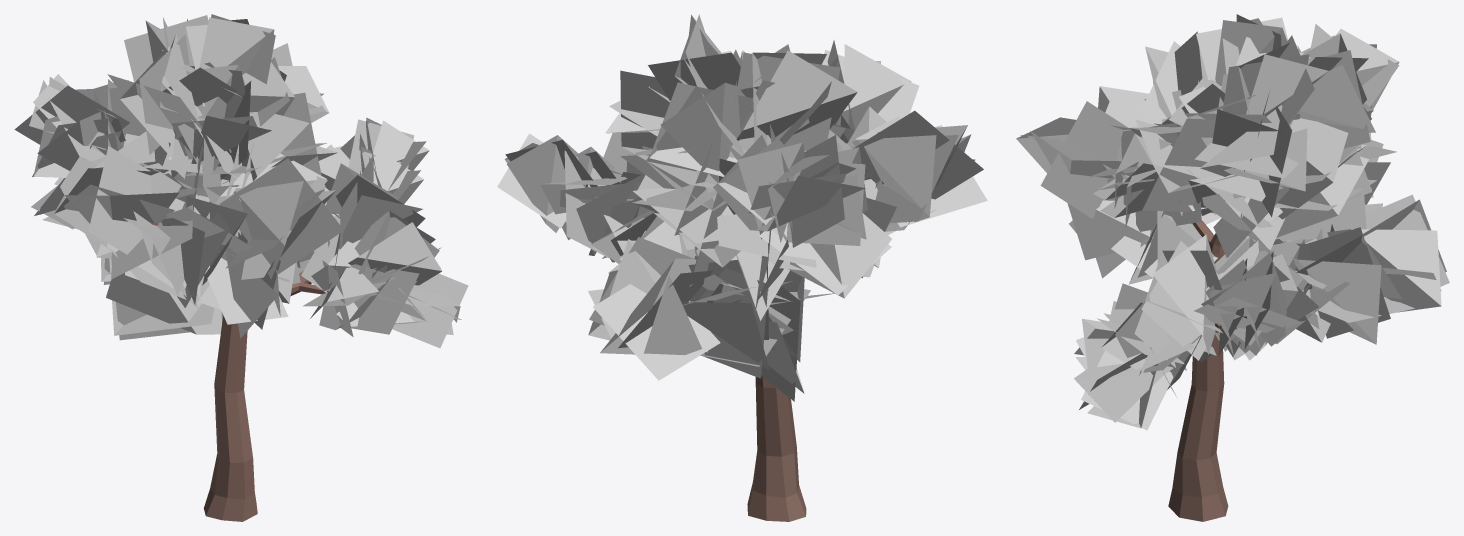
File: Tree_Normal.fbx
The picture shows the model from 3 angles, left to right: view 1: azimuth 30°, elevation 25°; view 2: azimuth 150°, elevation 25°; view 3: azimuth 270°, elevation 25°; orthographic projection. The views are drawn at different scales.
Parts seen in each view (by area): view 1: Tree_Normal_LOD0; view 2: Tree_Normal_LOD0; view 3: Tree_Normal_LOD0.
Part boxes in pixels (x1,y1,x2,y2): Tree_Normal_LOD0: (14, 14, 468, 521); Tree_Normal_LOD0: (497, 14, 987, 521); Tree_Normal_LOD0: (1016, 14, 1449, 521).
Size of what is drawn, in the model's own units: 1287 by 1442 by 1184.
